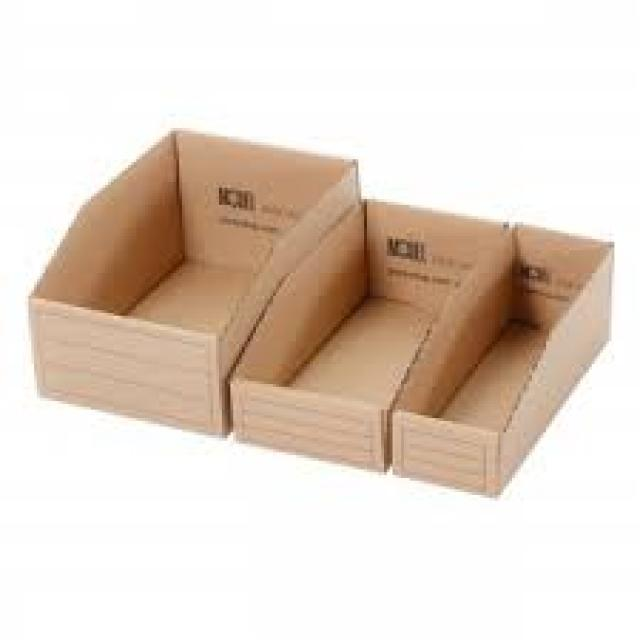cardboard: (29, 123, 356, 436), (225, 196, 504, 472), (390, 219, 609, 498)
